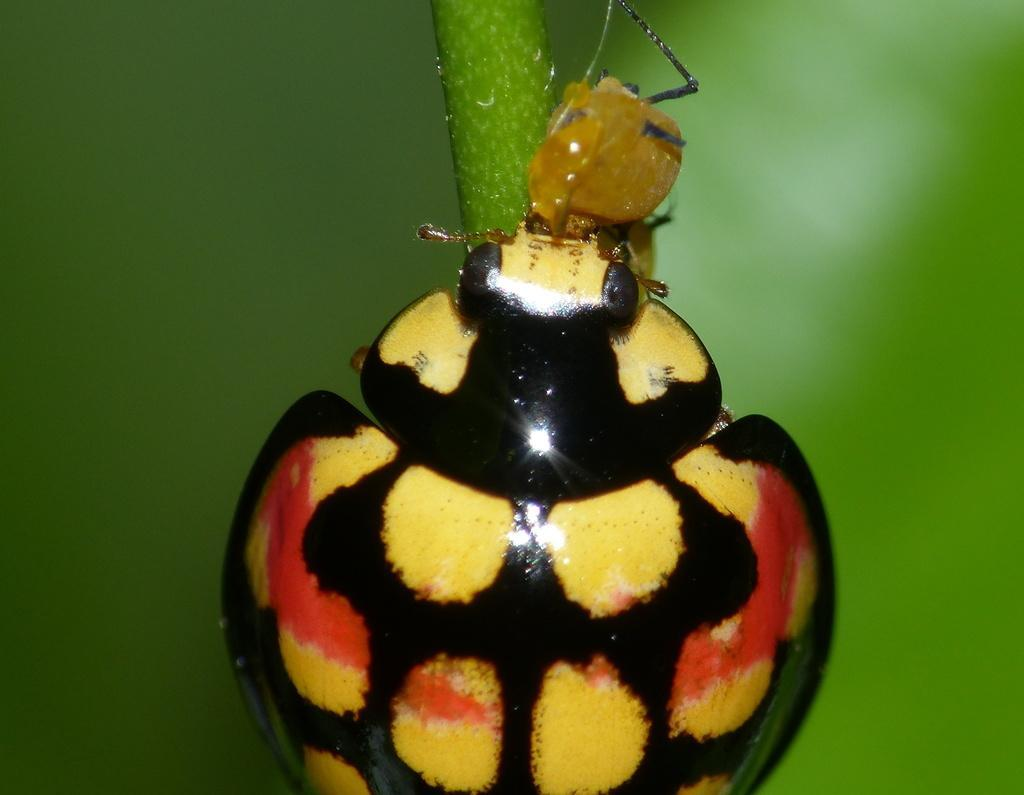ladybug: (217, 211, 843, 795)
